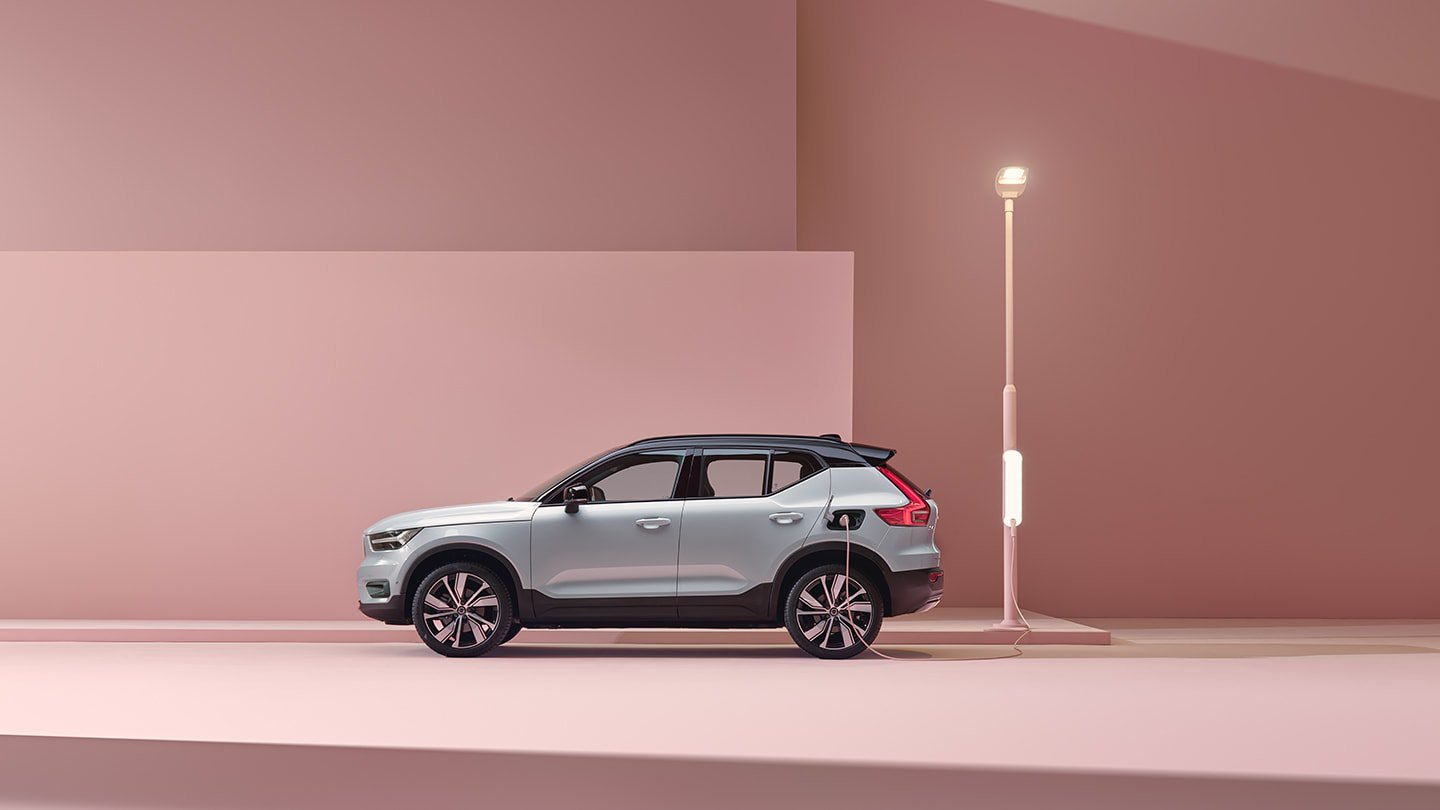car: (351, 413, 952, 666)
